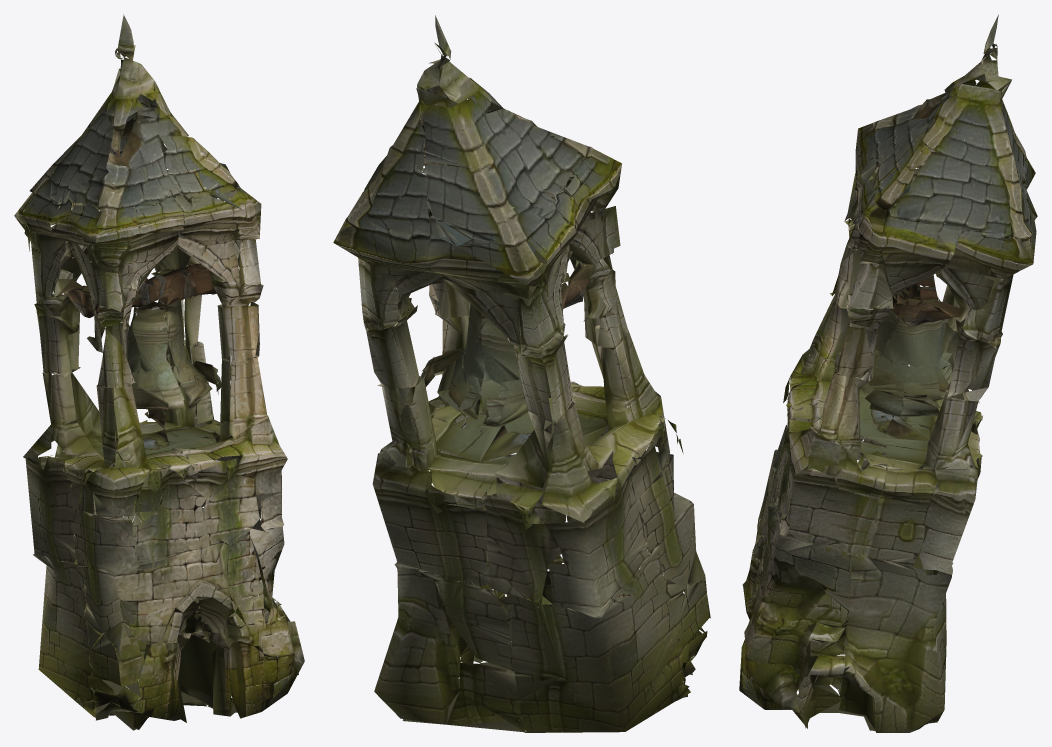
Rendered from SunkenBellTower.fbx.
3 views of the same model, side by side, from view 1: azimuth 30°, elevation 25°; view 2: azimuth 150°, elevation 25°; view 3: azimuth 270°, elevation 25° (orthographic). The views are drawn at different scales.
Parts seen in each view (by area): view 1: SunkenBellTower_Body; view 2: SunkenBellTower_Body; view 3: SunkenBellTower_Body.
Boxes of the visible parts, left/top/right/bottom form: SunkenBellTower_Body: left=14, top=14, right=304, bottom=730; SunkenBellTower_Body: left=333, top=15, right=710, bottom=732; SunkenBellTower_Body: left=739, top=14, right=1037, bottom=732.
Size of the model in its own units: 0.3513 by 1 by 0.3984.
Materials: 1 (1 with a texture image).
